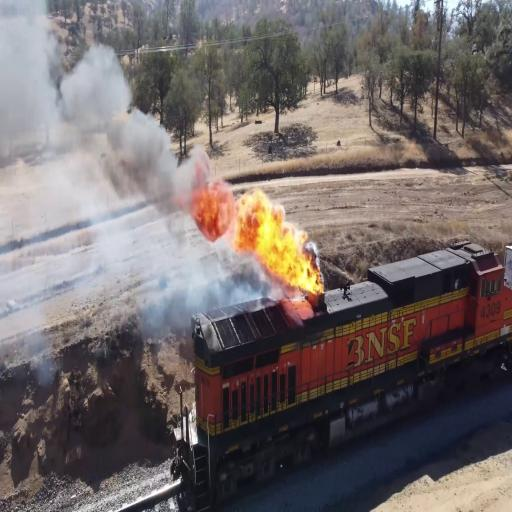fire: (178, 158, 230, 236), (230, 186, 286, 254), (279, 234, 318, 294)
smoke: (0, 0, 55, 171), (69, 38, 138, 139), (117, 106, 182, 202)
